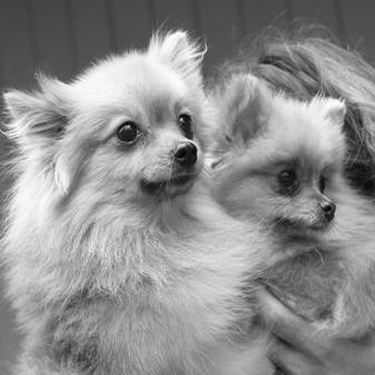dog: (1, 36, 281, 373), (183, 1, 368, 373)
